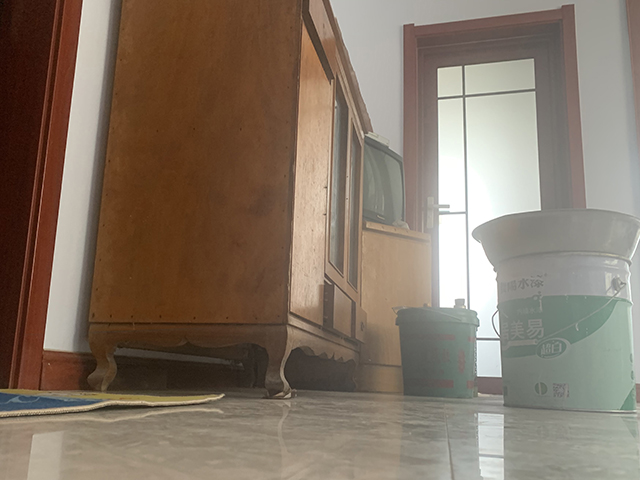cabinet: (85, 1, 374, 399), (356, 219, 433, 395)
carpet: (1, 389, 227, 419)
